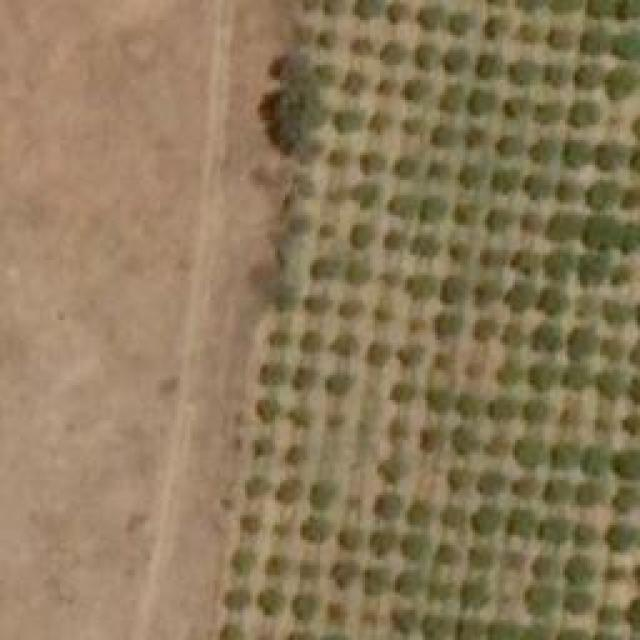Tree: (258, 85, 333, 165), (543, 213, 578, 243), (503, 278, 533, 313), (568, 100, 601, 130), (578, 23, 608, 56), (588, 180, 621, 210), (528, 320, 558, 353), (575, 255, 608, 285), (550, 440, 580, 473), (408, 230, 443, 258), (323, 370, 358, 398), (605, 522, 640, 550), (380, 38, 408, 71), (488, 167, 521, 195), (612, 30, 640, 63), (255, 588, 283, 621), (392, 568, 420, 601), (565, 555, 598, 583), (508, 248, 538, 278), (565, 325, 595, 355), (473, 468, 503, 498), (378, 455, 408, 485), (340, 67, 370, 95), (417, 195, 445, 225), (607, 68, 635, 98), (585, 217, 615, 245), (612, 450, 640, 480), (307, 480, 335, 510), (293, 590, 323, 618), (375, 490, 403, 520), (543, 517, 573, 545), (415, 5, 448, 30), (437, 85, 465, 113), (475, 50, 503, 78), (350, 180, 378, 208), (390, 152, 418, 180), (540, 60, 568, 88), (560, 140, 588, 168), (537, 287, 565, 315), (602, 297, 630, 325), (422, 387, 450, 415), (415, 427, 443, 455), (525, 397, 553, 425), (430, 540, 458, 568), (525, 587, 553, 615), (462, 577, 490, 605), (480, 13, 505, 43), (578, 63, 608, 88), (273, 55, 303, 80), (523, 363, 553, 388), (305, 510, 330, 540), (395, 535, 425, 560), (510, 508, 535, 538), (385, 193, 413, 218), (310, 255, 338, 280), (330, 330, 358, 355), (365, 337, 390, 365), (260, 360, 288, 385), (508, 57, 533, 85), (548, 20, 573, 48), (527, 140, 555, 165), (593, 142, 618, 170), (525, 172, 550, 200), (470, 280, 495, 308), (597, 370, 625, 395), (453, 427, 478, 455), (490, 395, 515, 423), (540, 480, 568, 505), (330, 560, 355, 588), (405, 500, 430, 528), (385, 605, 410, 633), (518, 435, 541, 465), (468, 545, 498, 568), (593, 605, 623, 628), (310, 63, 338, 86), (440, 275, 463, 303), (293, 365, 316, 393), (480, 245, 508, 268), (600, 335, 623, 363), (562, 365, 590, 388), (557, 405, 585, 428), (220, 588, 248, 611), (370, 530, 393, 558), (363, 567, 386, 595), (437, 508, 465, 531), (610, 490, 638, 513), (415, 43, 440, 68), (470, 90, 495, 115), (428, 158, 453, 183), (405, 275, 430, 300), (458, 163, 483, 188), (485, 208, 510, 233), (543, 253, 568, 278), (398, 345, 423, 370), (575, 483, 600, 508), (617, 222, 640, 249), (452, 617, 479, 640), (453, 10, 476, 35), (400, 78, 423, 103), (333, 110, 358, 133), (360, 150, 385, 173), (345, 260, 370, 283), (300, 290, 325, 313), (295, 330, 320, 353), (255, 398, 278, 423), (450, 203, 475, 226), (513, 20, 538, 43), (495, 133, 520, 156), (555, 178, 580, 201), (493, 363, 518, 386), (275, 483, 300, 506), (233, 550, 256, 575), (338, 528, 363, 551), (533, 558, 558, 581), (565, 590, 590, 613), (423, 613, 446, 638), (385, 383, 413, 403), (490, 620, 518, 640), (587, 445, 605, 475), (445, 50, 468, 73), (428, 125, 451, 148), (350, 225, 373, 248), (265, 328, 288, 351), (458, 395, 481, 418), (443, 468, 466, 491), (265, 555, 288, 578), (238, 513, 261, 536), (428, 578, 451, 601), (438, 313, 458, 338), (585, 0, 610, 20), (615, 0, 640, 20), (508, 478, 533, 498), (273, 515, 293, 540), (373, 75, 393, 98), (328, 148, 348, 171), (380, 230, 403, 250), (338, 298, 361, 318), (288, 405, 308, 428), (518, 213, 541, 233), (575, 295, 595, 318), (485, 435, 505, 458), (250, 438, 273, 458), (245, 478, 268, 498), (300, 560, 323, 580), (385, 418, 408, 438), (475, 508, 495, 531), (503, 548, 526, 568), (575, 523, 595, 546), (553, 0, 583, 15), (215, 625, 243, 640), (358, 0, 381, 18), (345, 35, 368, 53), (315, 30, 338, 48), (398, 115, 421, 133), (533, 105, 556, 123), (473, 320, 496, 338), (283, 447, 306, 465), (463, 128, 483, 148), (368, 113, 388, 133), (323, 188, 343, 208), (380, 268, 400, 288), (450, 240, 470, 260), (503, 325, 523, 345), (328, 605, 348, 625), (405, 315, 425, 333), (503, 97, 523, 115), (610, 267, 630, 285), (622, 415, 640, 435), (607, 565, 625, 585), (323, 0, 346, 15), (372, 302, 390, 320), (462, 360, 480, 378), (622, 190, 640, 208), (345, 495, 363, 513), (388, 3, 403, 23), (315, 223, 335, 238), (525, 625, 545, 640), (430, 350, 445, 368)
